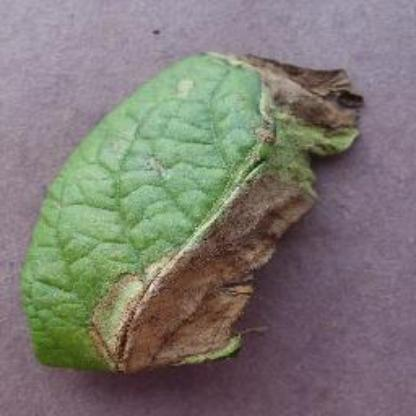Late-Blight: (14, 35, 380, 386)
